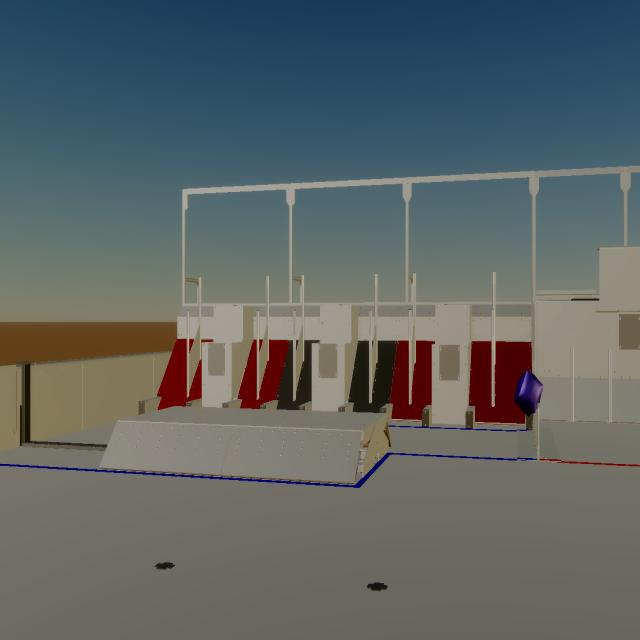frc_cube: (514, 369, 543, 417)
